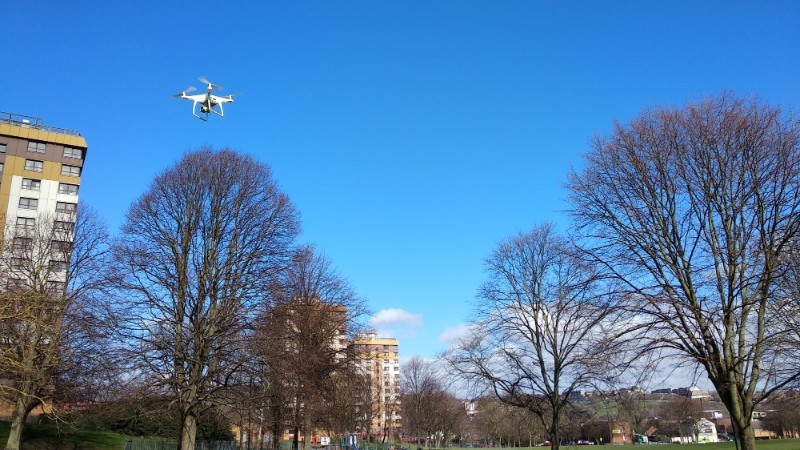drone: (172, 74, 241, 124)
